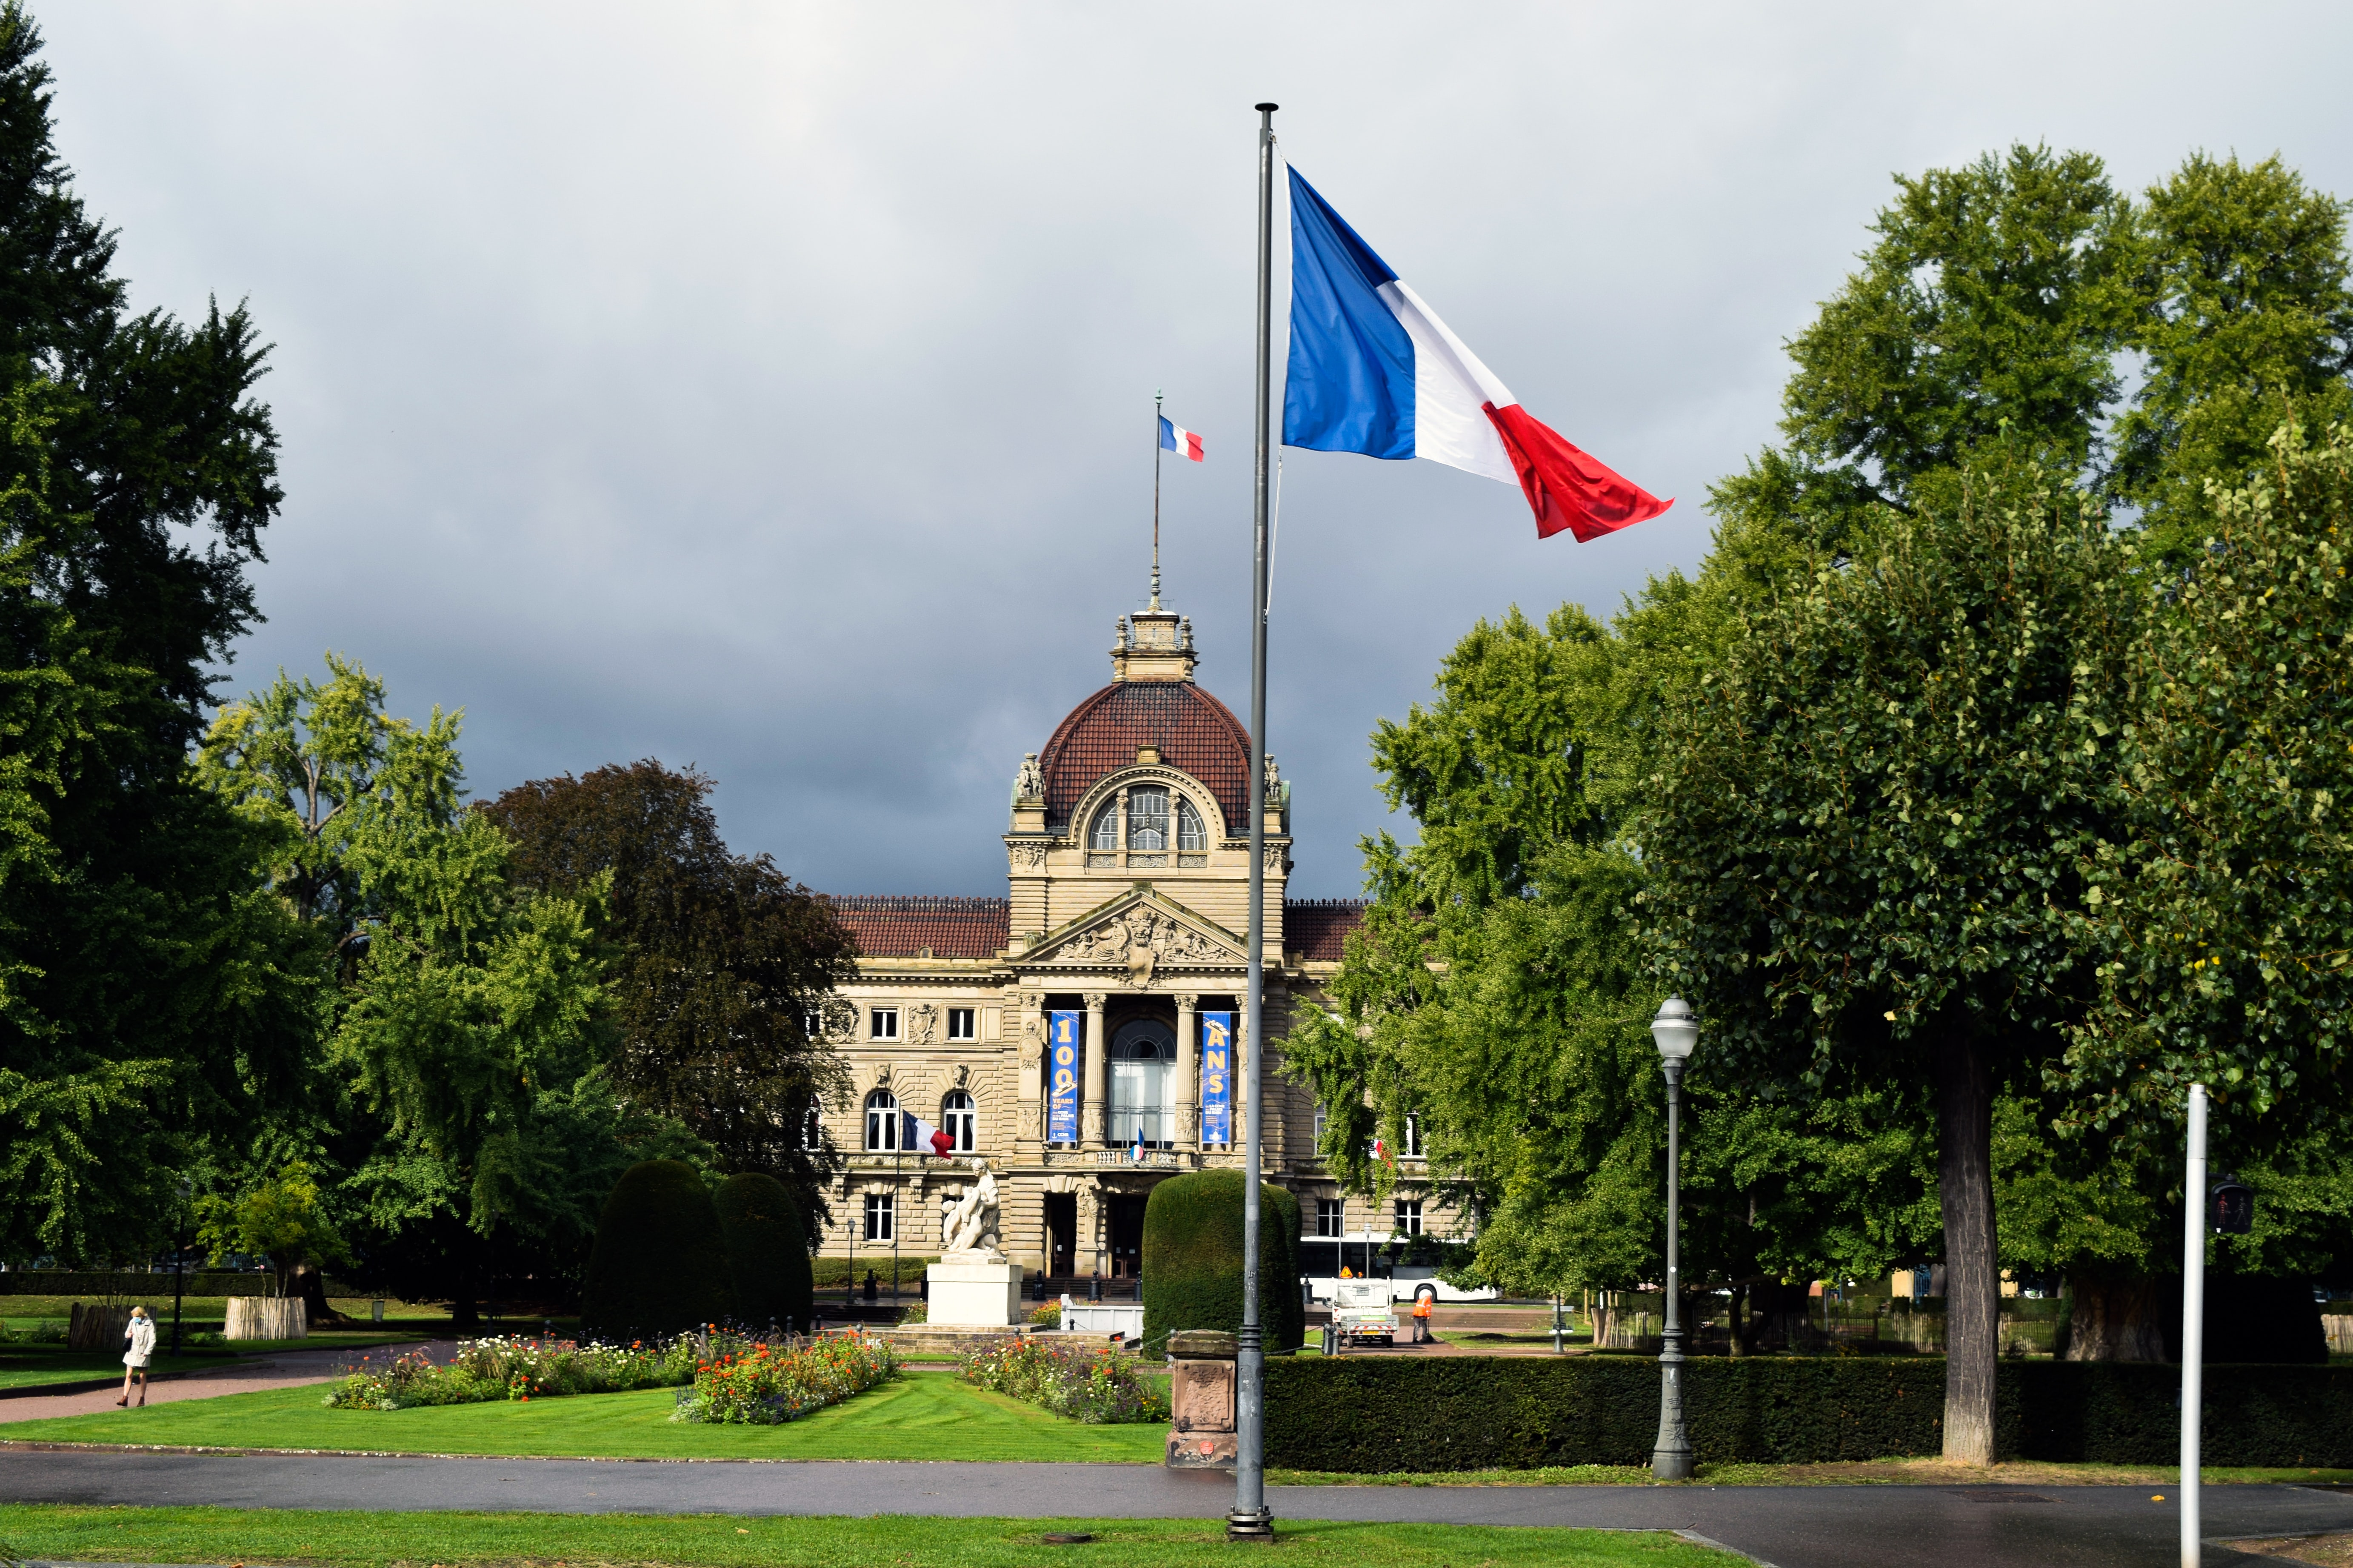Flag: (1283, 161, 1675, 553), (1147, 416, 1208, 465)
